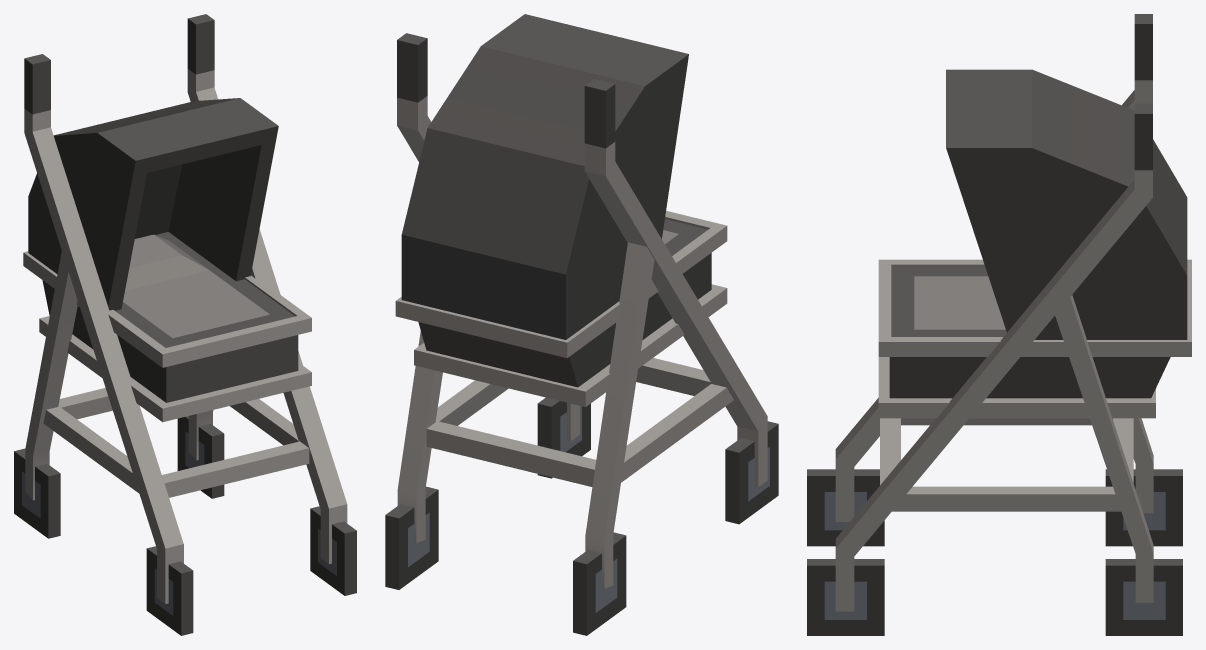
File: AI_Prop_PushChair.fbx
The picture shows the model from 3 angles, left to right: view 1: azimuth 30°, elevation 25°; view 2: azimuth 150°, elevation 25°; view 3: azimuth 270°, elevation 25°; orthographic projection. The views are drawn at different scales.
Parts seen in each view (by area): view 1: AI_Prop_PushChair; view 2: AI_Prop_PushChair; view 3: AI_Prop_PushChair.
Boxes of the visible parts, bbox=[...] form: AI_Prop_PushChair: bbox=[14, 14, 356, 635]; AI_Prop_PushChair: bbox=[385, 14, 778, 635]; AI_Prop_PushChair: bbox=[807, 14, 1191, 635].
Bounding box in the file's own units: 0.8963 × 2.19 × 1.46.
